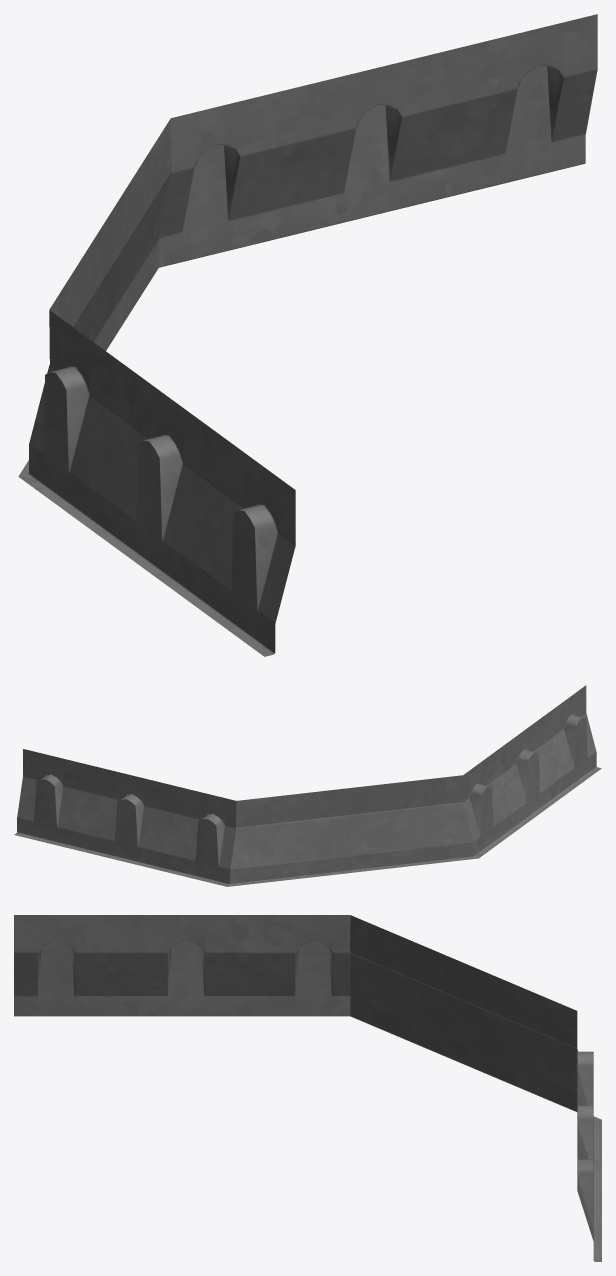
The model's file is TrimV3_InsideBevel.fbx.
The picture shows the model from 3 angles, top to bottom: view 1: azimuth 30°, elevation 25°; view 2: azimuth 150°, elevation 25°; view 3: azimuth 270°, elevation 25°; orthographic projection. The views are drawn at different scales.
Parts seen in each view (by area): view 1: TrimV3_InsideBevel; view 2: TrimV3_InsideBevel; view 3: TrimV3_InsideBevel.
Boxes of the visible parts, box(x1,y1,x2,y2) form: TrimV3_InsideBevel: box(18, 14, 597, 656); TrimV3_InsideBevel: box(14, 685, 601, 886); TrimV3_InsideBevel: box(14, 915, 601, 1261).
Size of the model in its own units: 490 by 99.88 by 490.
1 material, 1 textured.
